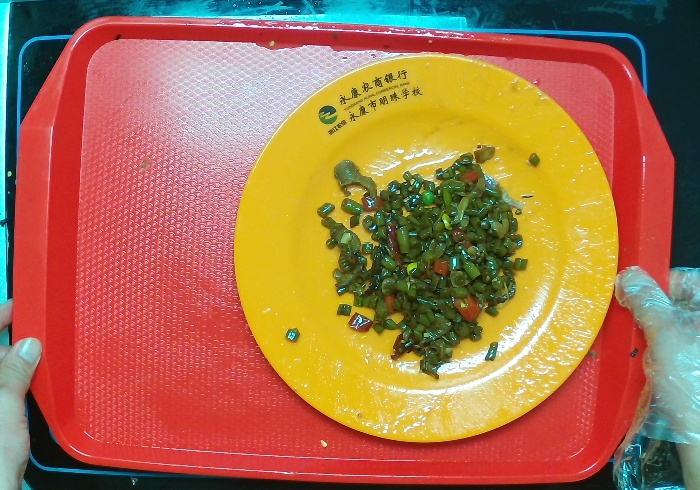YKMZ-Ju_Se_Mian_Pan: (209, 43, 629, 464)
